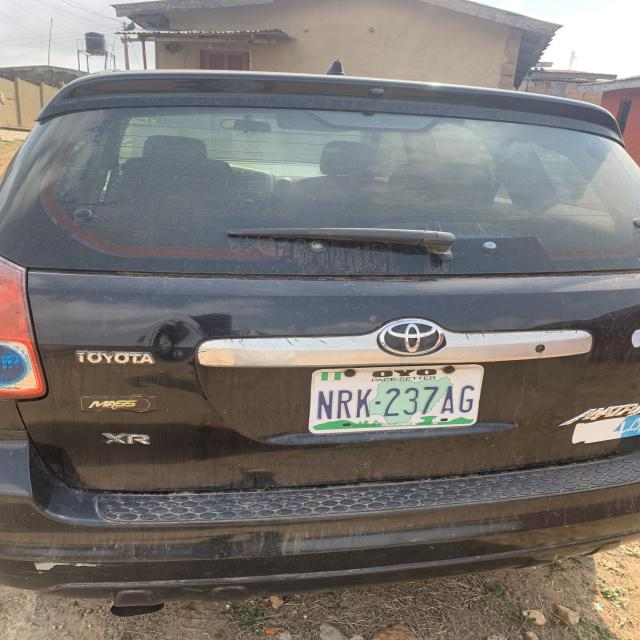rear-bumper-dent: (128, 308, 227, 381)
rear-bumper-scratch: (13, 552, 130, 584)
